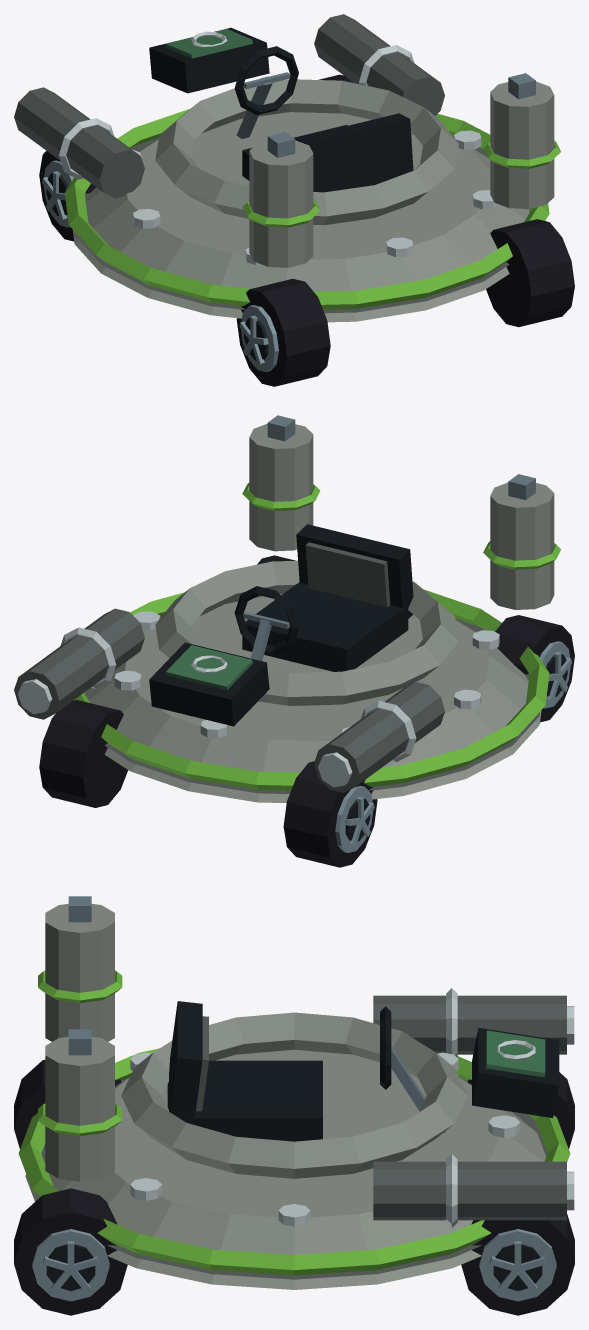
The model's file is kart.glb.
3 renders of one model, top to bottom at view 1: azimuth 30°, elevation 25°; view 2: azimuth 150°, elevation 25°; view 3: azimuth 270°, elevation 25°, orthographic. The views are drawn at different scales.
Visible parts, largest first — view 1: identity-saucer-saucer-double-rim, identity-saucer-motif-tanks, identity-saucer-motif-plasma, identity-saucer-driver-cockpit, wheel-rear-left, wheel-rear-right, identity-saucer-motif-scanner, wheel-front-left; view 2: identity-saucer-saucer-double-rim, identity-saucer-driver-cockpit, identity-saucer-motif-tanks, identity-saucer-motif-plasma, identity-saucer-motif-scanner, wheel-front-right, wheel-front-left, wheel-rear-left; view 3: identity-saucer-saucer-double-rim, identity-saucer-motif-plasma, identity-saucer-motif-tanks, identity-saucer-driver-cockpit, wheel-rear-right, wheel-front-right, identity-saucer-motif-scanner, wheel-rear-left, wheel-front-left.
Part boxes in pixels (x1,y1,x2,y2): identity-saucer-saucer-double-rim: (64, 79, 549, 322); identity-saucer-motif-tanks: (242, 73, 560, 267); identity-saucer-motif-plasma: (14, 14, 444, 198); identity-saucer-driver-cockpit: (234, 46, 413, 192); wheel-rear-left: (236, 278, 330, 386); wheel-rear-right: (486, 219, 574, 327); identity-saucer-motif-scanner: (149, 27, 269, 93); wheel-front-left: (39, 151, 96, 241); identity-saucer-saucer-double-rim: (73, 560, 549, 802); identity-saucer-driver-cockpit: (234, 524, 413, 671); identity-saucer-motif-tanks: (242, 415, 560, 609); identity-saucer-motif-plasma: (14, 608, 444, 792); identity-saucer-motif-scanner: (149, 642, 269, 726); wheel-front-right: (39, 700, 128, 807); wheel-front-left: (283, 761, 377, 867); wheel-rear-left: (495, 615, 574, 722); identity-saucer-saucer-double-rim: (18, 1012, 570, 1289); identity-saucer-motif-plasma: (373, 988, 574, 1227); identity-saucer-motif-tanks: (38, 896, 122, 1181); identity-saucer-driver-cockpit: (167, 1001, 445, 1141); wheel-rear-right: (14, 1188, 127, 1315); wheel-front-right: (461, 1214, 574, 1315); identity-saucer-motif-scanner: (472, 1027, 559, 1117); wheel-rear-left: (14, 1059, 121, 1148); wheel-front-left: (467, 1072, 574, 1148).
Size of the model in its own units: 2.42 by 1.3 by 2.46.
